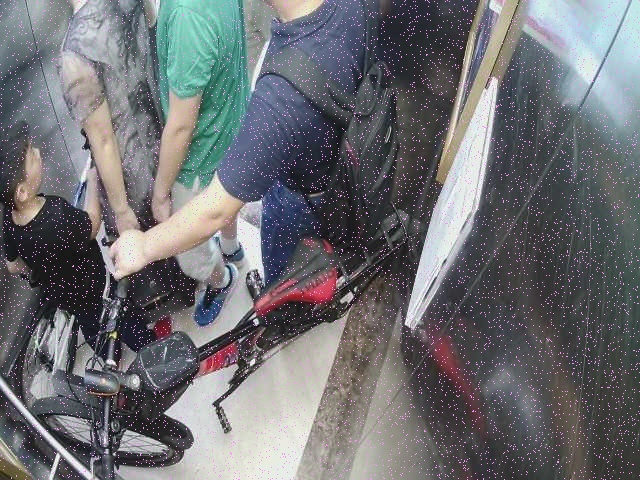bicycle: (23, 210, 425, 478)
person: (246, 1, 410, 330), (4, 117, 180, 367), (60, 1, 171, 304), (155, 1, 253, 339)
